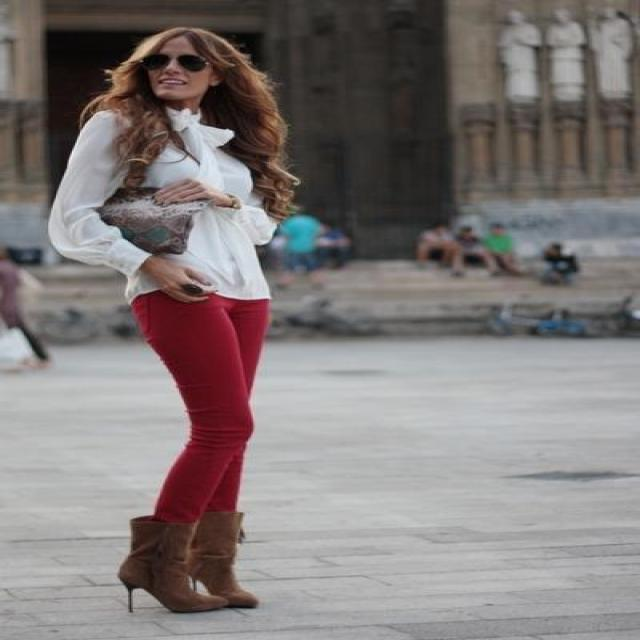bag: (96, 167, 192, 258)
pants: (134, 290, 266, 517)
shirt: (48, 108, 275, 298)
shoe: (118, 509, 256, 613)
sunglass: (176, 38, 216, 72)
